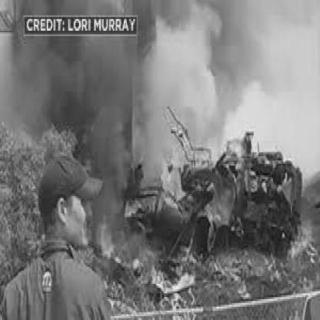Fire: (171, 236, 209, 274)
Smoke: (9, 6, 152, 164), (181, 8, 279, 116)
